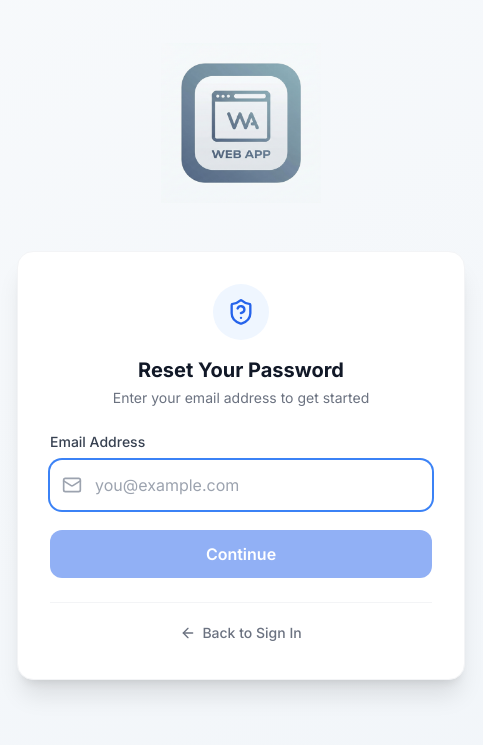
Test: ForgotPasswordPage › shows security question step after successful email lookup
Type "user@example.com" into the field with placeholder "you@example.com" at (241, 484), box [50,460,432,510]
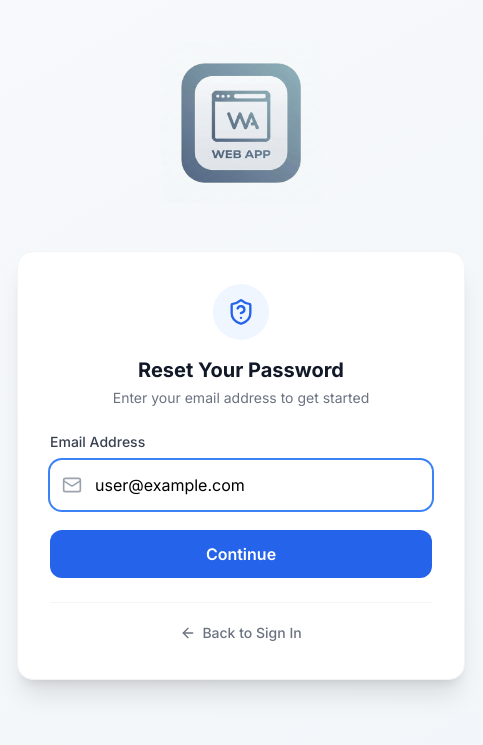
Click the button "Continue" at (241, 554), box [50,530,432,578]
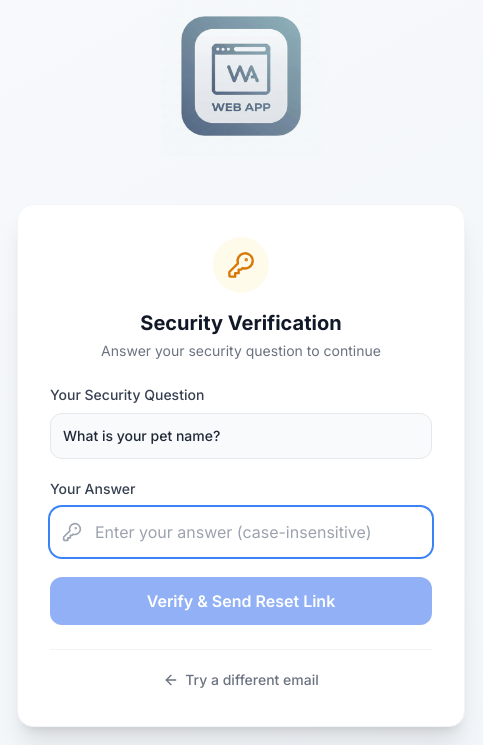
Result: the text "What is your pet name?" is shown at [50,412,432,458]
Result: the heading "Security Verification" is shown at [140,310,342,334]
